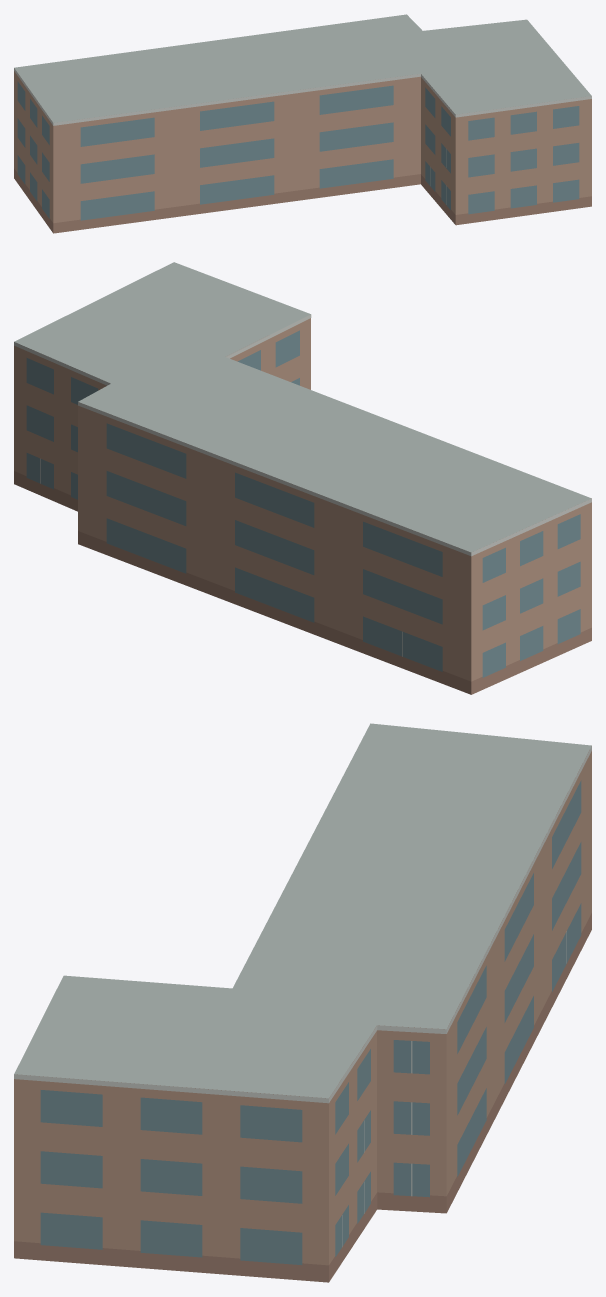
File: survey-upis-32953464.glb
3 renders of one model, top to bottom at view 1: azimuth 30°, elevation 25°; view 2: azimuth 150°, elevation 25°; view 3: azimuth 270°, elevation 25°, orthographic. The views are drawn at different scales.
Parts seen in each view (by area): view 1: survey-upis-32953464.tmp; view 2: survey-upis-32953464.tmp; view 3: survey-upis-32953464.tmp.
Boxes of the visible parts, x1=… form: survey-upis-32953464.tmp: x1=14, y1=14, x2=591, y2=233; survey-upis-32953464.tmp: x1=14, y1=262, x2=591, y2=694; survey-upis-32953464.tmp: x1=14, y1=723, x2=591, y2=1282.
Bounding box in the file's own units: 39.96 × 9.15 × 26.03.
